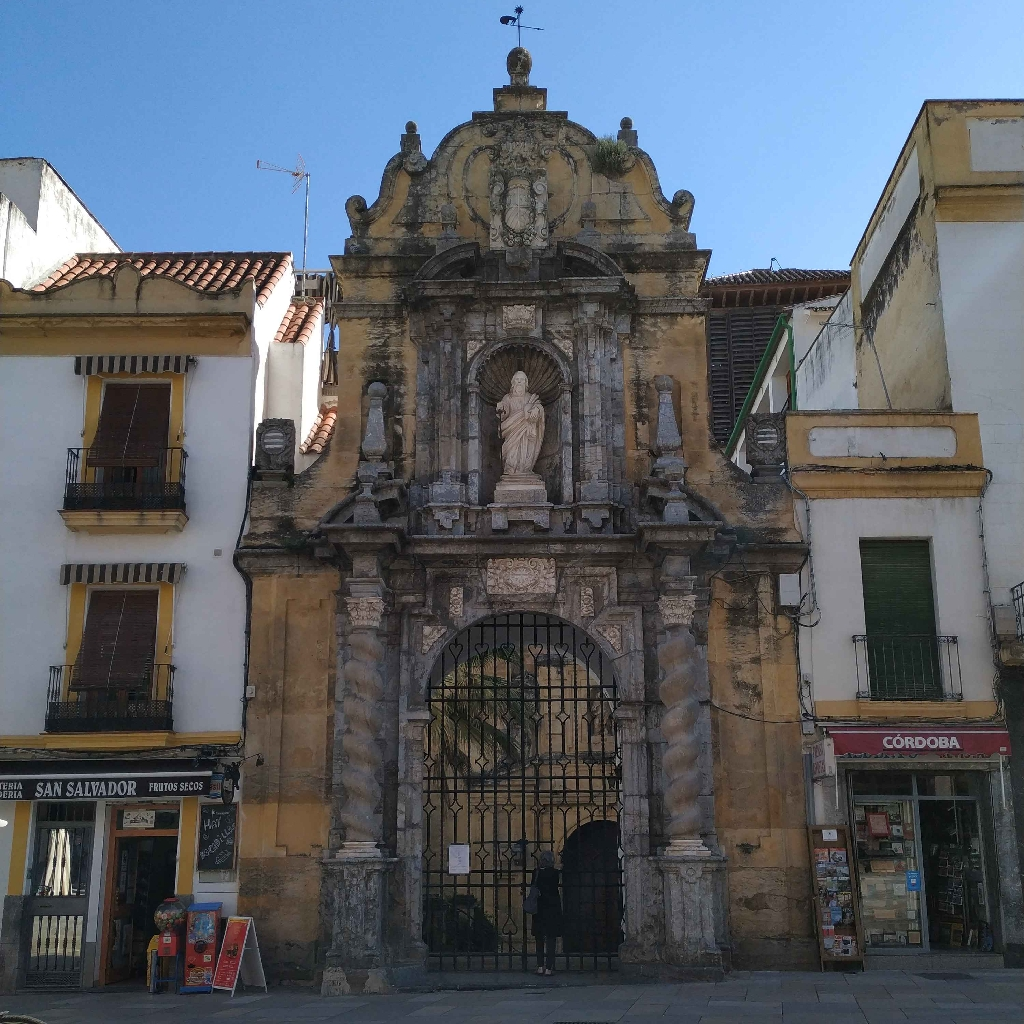arco-medio-punto: (397, 594, 627, 733)
columna-salomonica: (653, 603, 715, 854), (333, 615, 388, 869)
fronton-partido: (317, 471, 732, 549), (407, 235, 614, 294)
